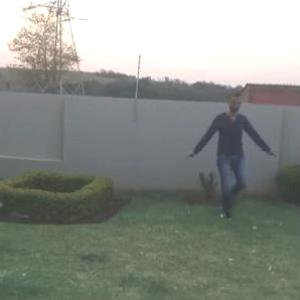land: (189, 102, 276, 222)
